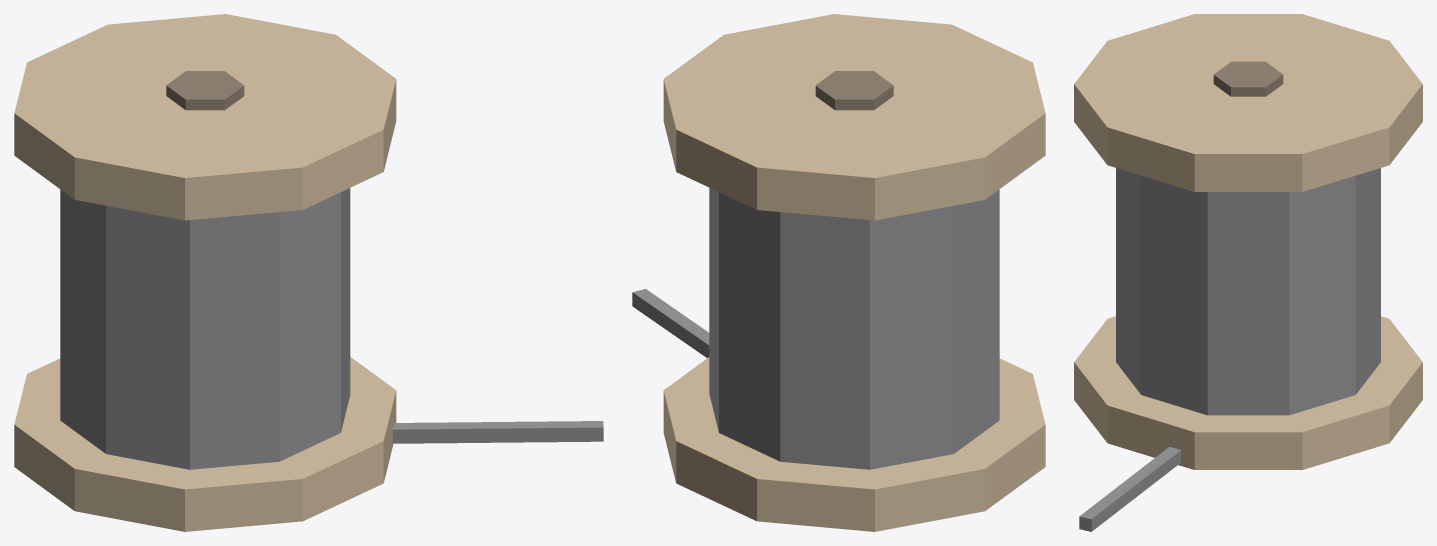
File: prop-binding-wire-spool.fbx
3 renders of one model, left to right at view 1: azimuth 30°, elevation 25°; view 2: azimuth 150°, elevation 25°; view 3: azimuth 270°, elevation 25°, orthographic. The views are drawn at different scales.
Visible parts, largest first — view 1: prop-binding-wire-spool; view 2: prop-binding-wire-spool; view 3: prop-binding-wire-spool.
Part boxes in pixels (box(x1,y1,x2,y2)): prop-binding-wire-spool: box(14, 14, 603, 531); prop-binding-wire-spool: box(632, 14, 1045, 531); prop-binding-wire-spool: box(1074, 14, 1422, 531).
Size of the model in its own units: 13.92 by 10.3 by 10.
